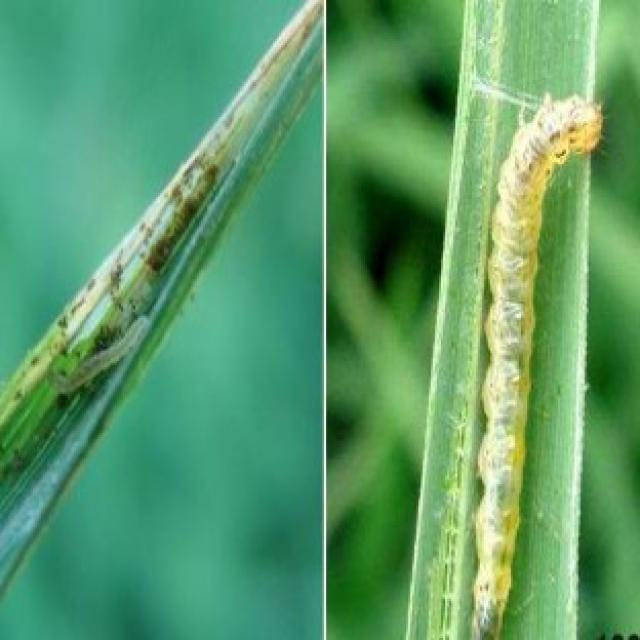rice leaf roller: (474, 94, 601, 638), (0, 162, 219, 433)
